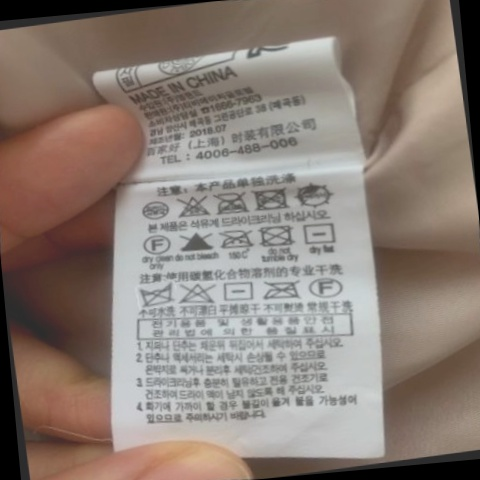DN_bleach: (175, 189, 218, 222), (179, 224, 220, 256), (178, 281, 218, 310)
DN_iron: (260, 273, 303, 304), (218, 222, 257, 255)
DN_tumble_dry: (252, 182, 296, 215), (256, 219, 298, 251)
DN_wash: (139, 279, 179, 310)
dry_clean_petrol_only: (304, 272, 351, 304), (139, 197, 174, 224), (140, 232, 176, 256)
dry_flat: (216, 277, 262, 306), (300, 220, 338, 246)
dry_flat_in_shade: (293, 176, 340, 212)
iron_high: (212, 186, 254, 219)
